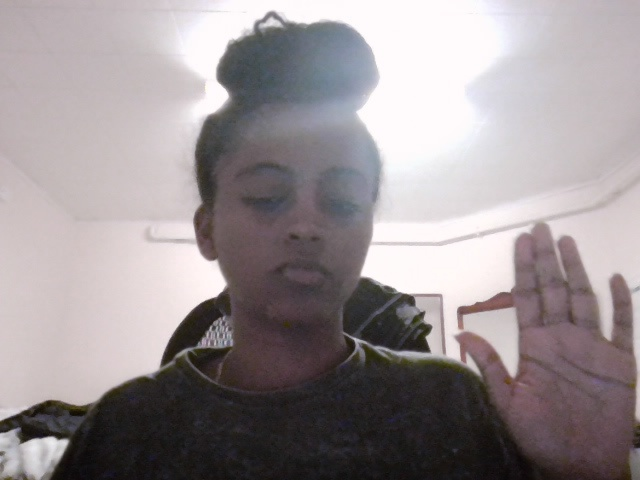hello: (455, 219, 640, 480)
